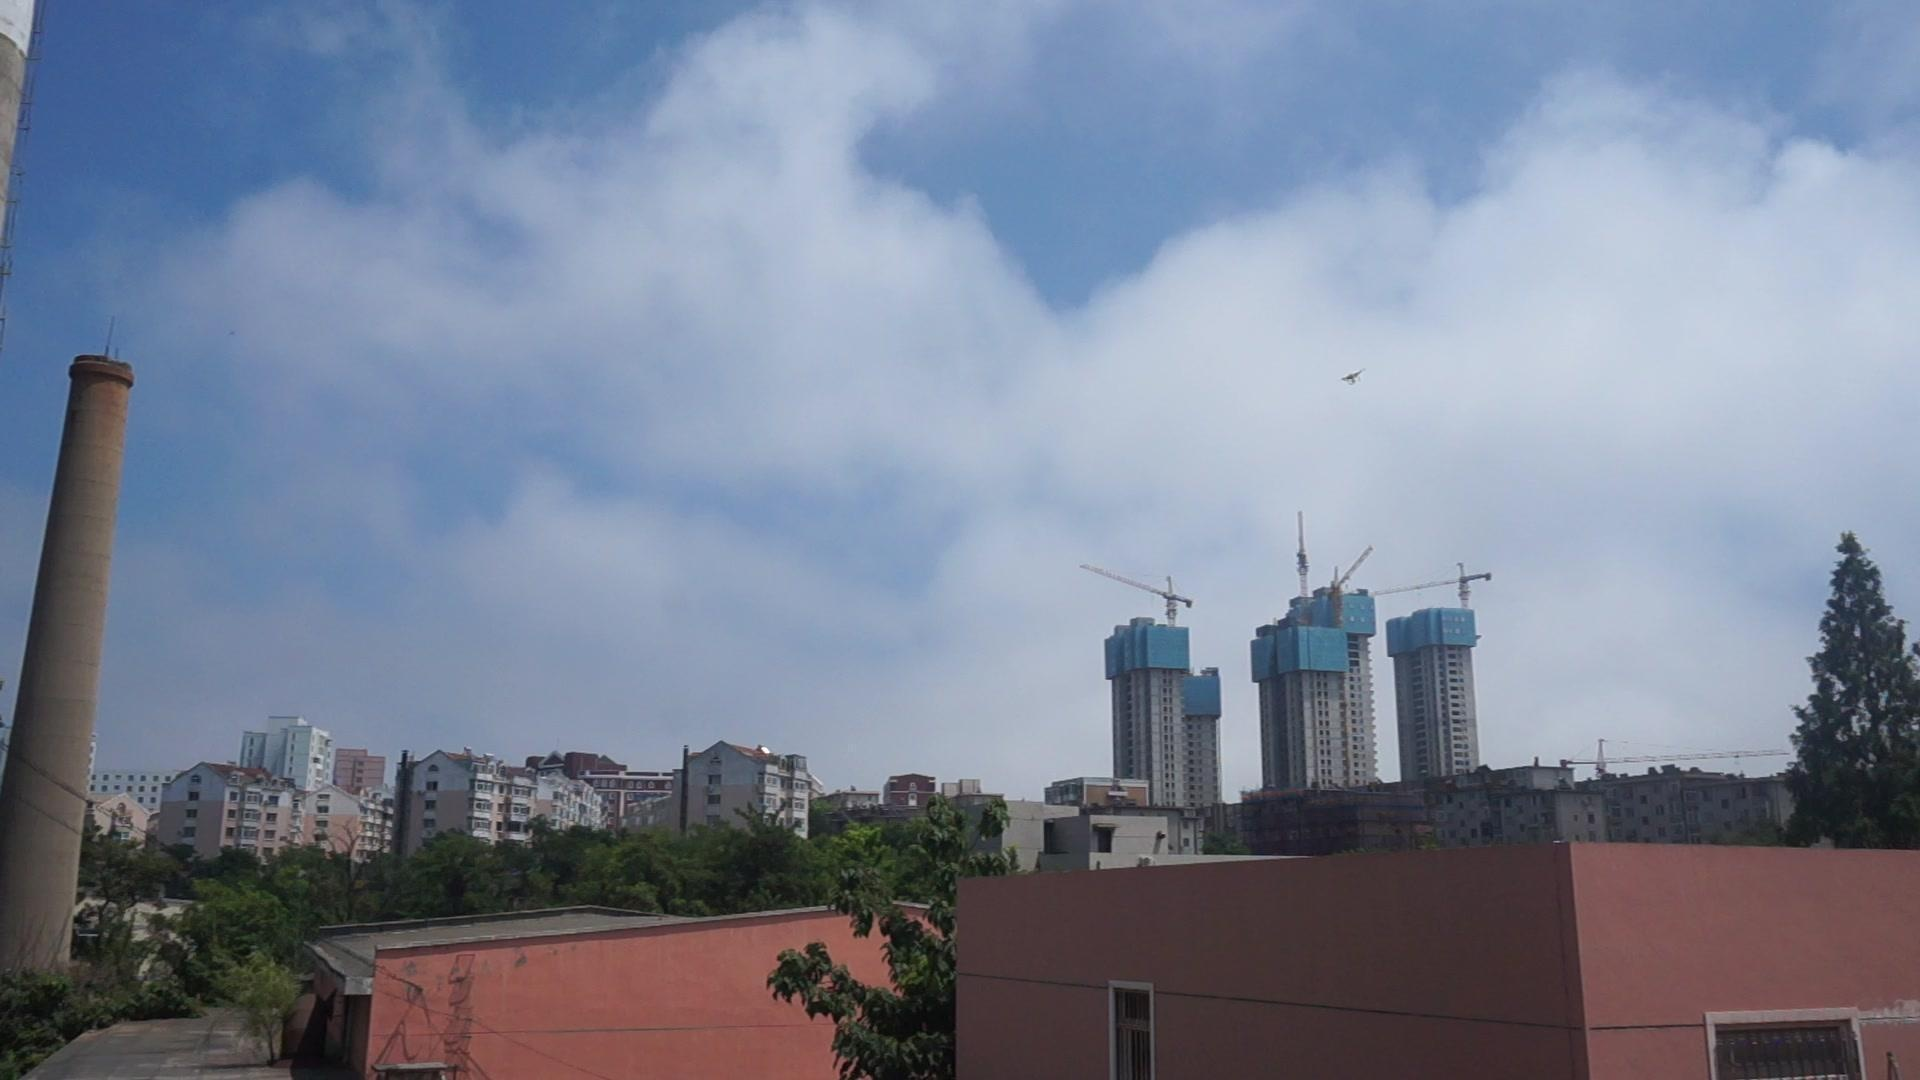UAV: (1340, 368, 1369, 385)
